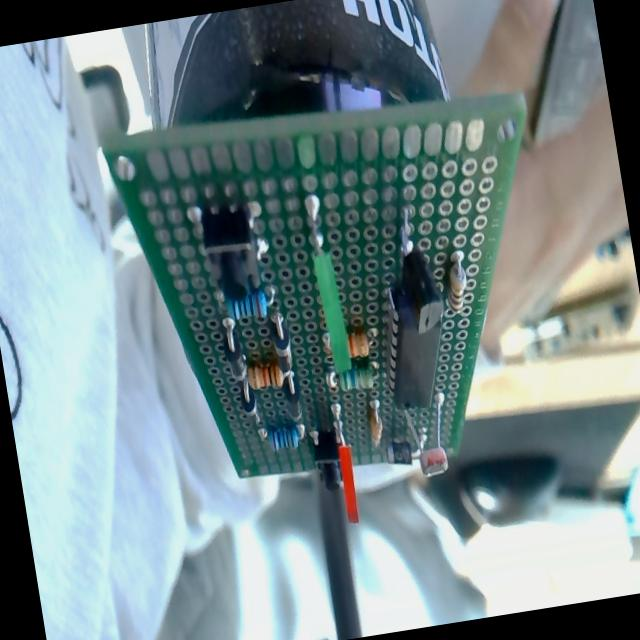IC: (372, 275, 462, 415)
cds: (402, 397, 460, 481)
diode: (381, 430, 416, 475), (220, 324, 247, 376), (268, 316, 292, 356), (282, 375, 303, 414), (238, 381, 258, 417)
led: (300, 192, 354, 376), (332, 416, 364, 525)
resistor: (442, 248, 476, 325), (228, 288, 270, 323), (364, 399, 388, 455), (337, 362, 376, 394), (248, 360, 286, 392), (267, 423, 301, 452)
switch: (184, 200, 274, 304), (310, 428, 346, 496)
transistor: (402, 248, 448, 335)
